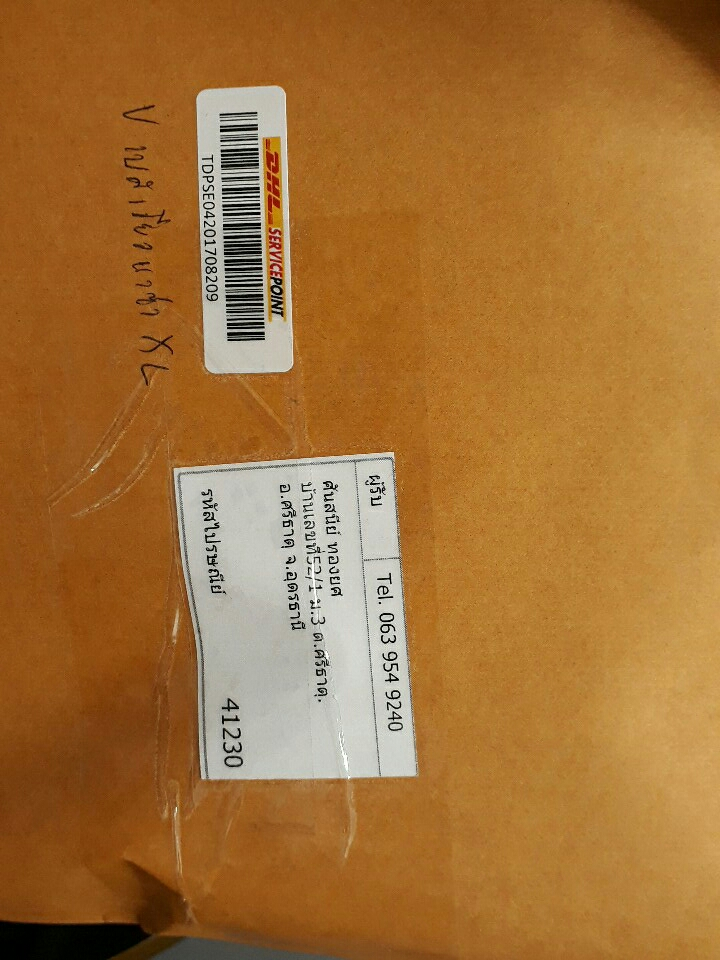ba: (176, 80, 305, 383)
txt: (197, 471, 403, 772)
